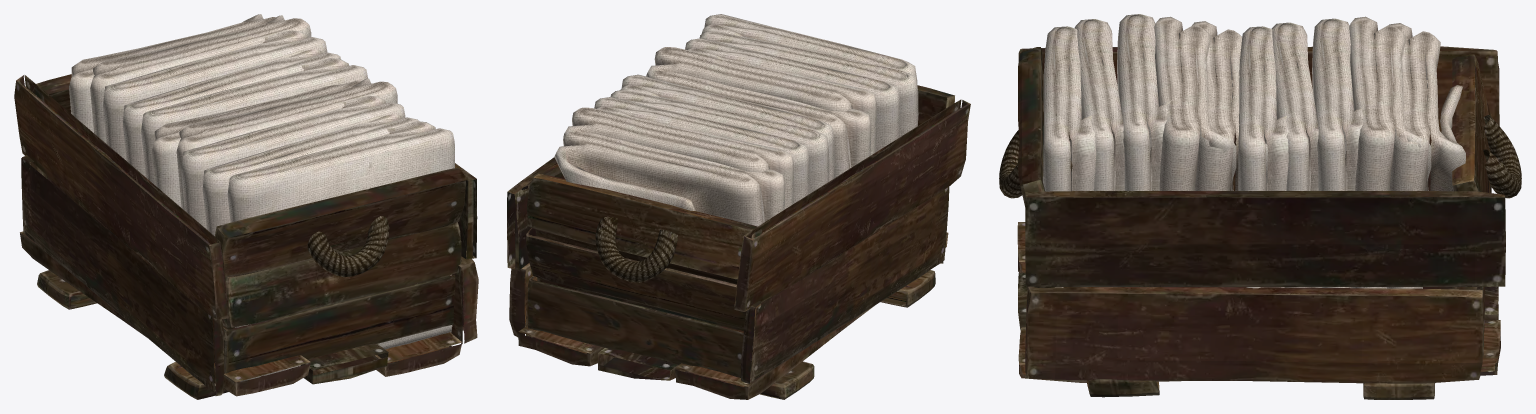
3 views of the same model, side by side, from view 1: azimuth 30°, elevation 25°; view 2: azimuth 150°, elevation 25°; view 3: azimuth 270°, elevation 25° (orthographic). The views are drawn at different scales.
Parts seen in each view (by area): view 1: SM_Dec_Garou_Chest_Cloth_Coarse_Small_LOD0; view 2: SM_Dec_Garou_Chest_Cloth_Coarse_Small_LOD0; view 3: SM_Dec_Garou_Chest_Cloth_Coarse_Small_LOD0.
Part boxes in pixels (x1=…): SM_Dec_Garou_Chest_Cloth_Coarse_Small_LOD0: x1=14, y1=14, x2=478, y2=399; SM_Dec_Garou_Chest_Cloth_Coarse_Small_LOD0: x1=507, y1=14, x2=970, y2=399; SM_Dec_Garou_Chest_Cloth_Coarse_Small_LOD0: x1=999, y1=14, x2=1521, y2=399.
Bounding box in the file's own units: 0.6922 × 0.5388 × 0.9929.
Materials: 2 (2 with a texture image).
